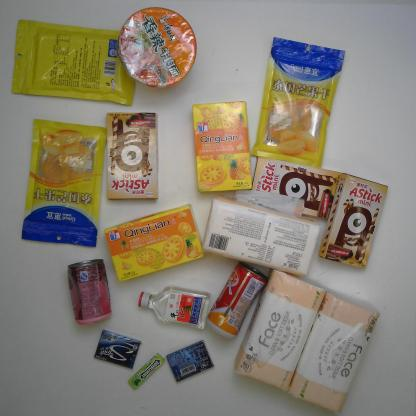Alcohol: (137, 284, 211, 330)
Canned Food: (205, 260, 273, 342), (63, 256, 110, 326)
Dessert: (103, 201, 205, 284), (247, 153, 349, 224), (319, 172, 391, 270), (191, 98, 252, 195), (105, 108, 163, 201)
Dried Fruit: (251, 35, 347, 173), (10, 14, 141, 108), (21, 118, 110, 248)
Gum: (92, 324, 142, 370), (166, 339, 214, 382), (127, 352, 165, 391)
Instant Noodles: (115, 5, 201, 90)
Tissue: (233, 258, 326, 393), (287, 285, 381, 415), (202, 194, 322, 278)
